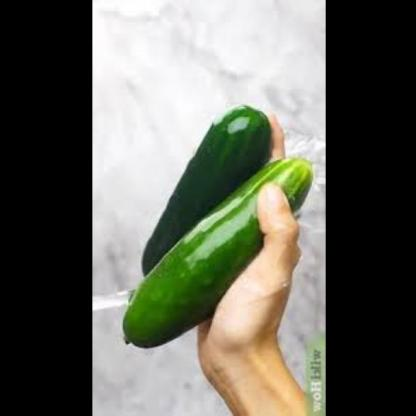cucumber: (117, 156, 315, 352), (136, 98, 277, 280)
